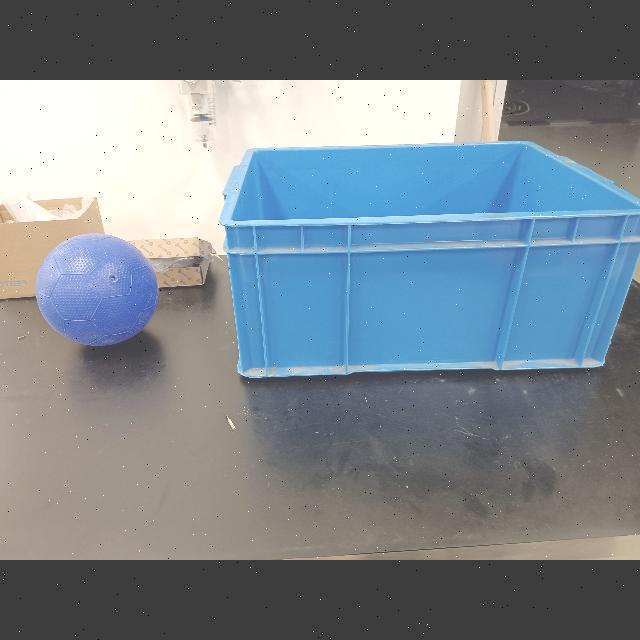B: (35, 232, 158, 346)
